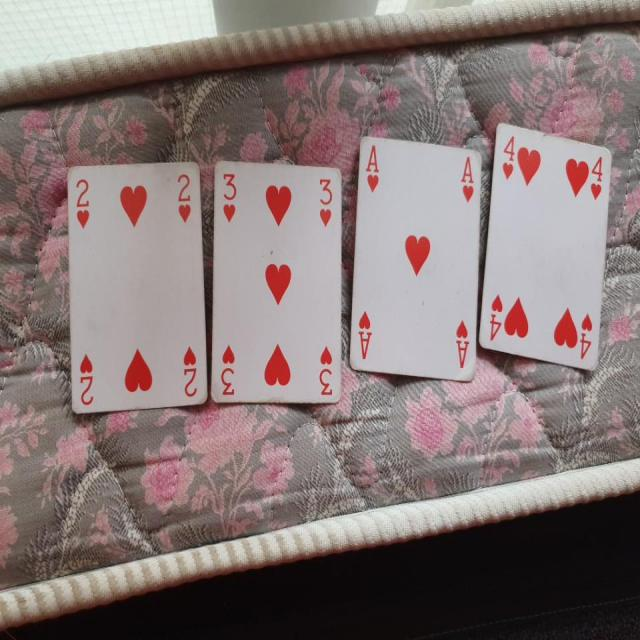2 Hearts: (56, 152, 212, 420)
3 Hearts: (206, 150, 347, 414)
4 Hearts: (477, 118, 612, 382)
A Hearts: (343, 133, 486, 391)
